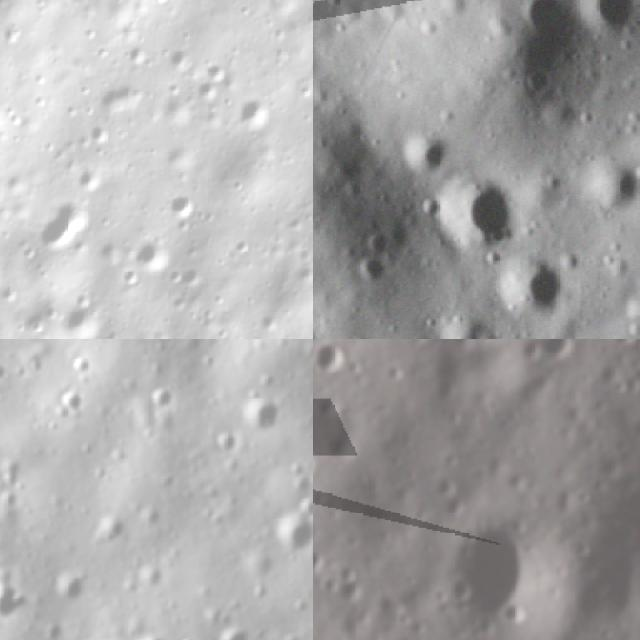crater: (416, 148, 539, 276), (477, 236, 583, 337), (450, 520, 535, 630), (25, 177, 100, 264), (386, 113, 463, 186), (583, 143, 640, 218), (123, 226, 185, 288), (569, 0, 640, 54), (51, 285, 114, 339), (233, 86, 279, 138), (154, 182, 206, 225), (238, 396, 288, 436), (86, 509, 131, 553), (157, 37, 202, 75), (232, 552, 282, 586), (69, 157, 111, 197), (47, 562, 84, 607), (278, 508, 313, 551), (52, 386, 93, 420), (0, 574, 27, 623), (202, 56, 241, 88), (192, 71, 224, 109), (207, 428, 242, 461), (147, 382, 179, 415), (67, 350, 98, 381), (132, 626, 179, 640), (542, 339, 571, 360), (0, 83, 11, 134), (211, 626, 250, 640), (0, 356, 14, 383), (607, 339, 640, 347)
